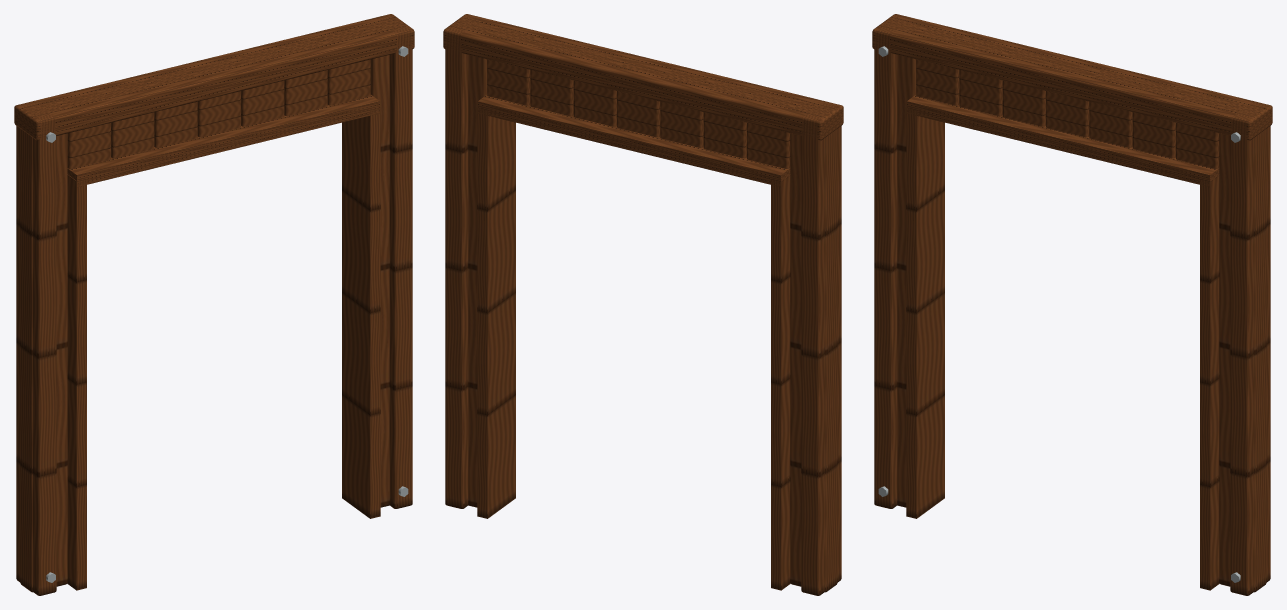
The model's file is modular-survival-base-builder-wall-wide-doorway-3f9bca87__24156.glb.
The picture shows the model from 3 angles, left to right: view 1: azimuth 30°, elevation 25°; view 2: azimuth 150°, elevation 25°; view 3: azimuth 330°, elevation 25°; orthographic projection.
Visible parts, largest first — view 1: wall-wide-doorway; view 2: wall-wide-doorway; view 3: wall-wide-doorway.
Part boxes in pixels (bbox=[...]): wall-wide-doorway: bbox=[14, 14, 414, 595]; wall-wide-doorway: bbox=[443, 14, 843, 595]; wall-wide-doorway: bbox=[872, 14, 1272, 595].
Size of the model in its own units: 2 by 2.4 by 0.2599.
Materials: 2 (1 with a texture image).
